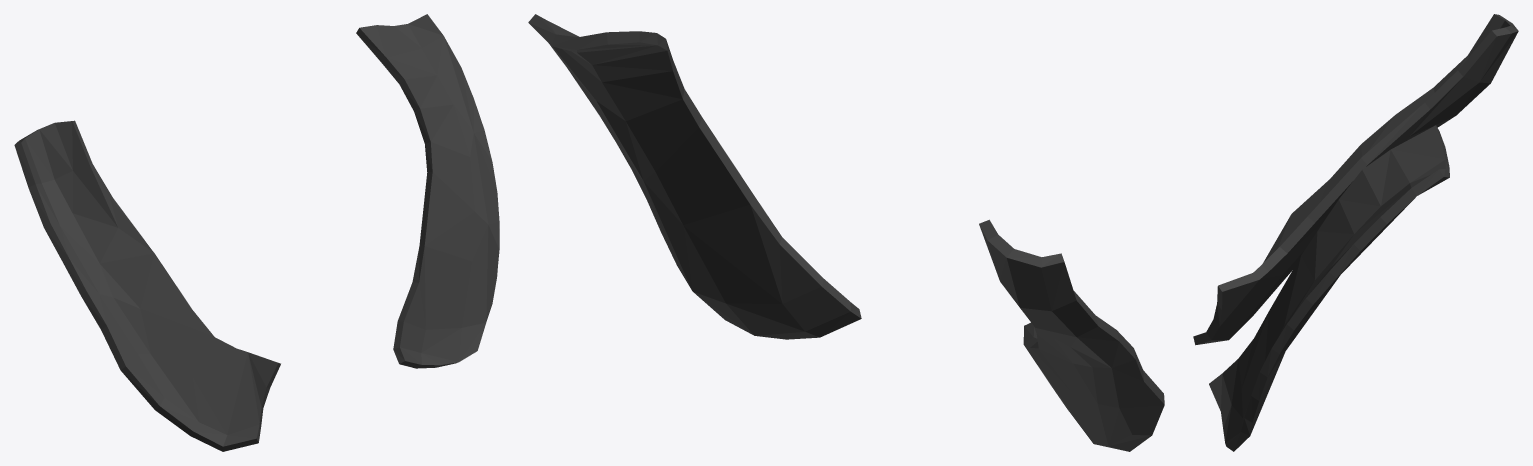
Rendered from t6_caudal_articular_process.glb.
3 renders of one model, left to right at view 1: azimuth 30°, elevation 25°; view 2: azimuth 150°, elevation 25°; view 3: azimuth 270°, elevation 25°, orthographic. The views are drawn at different scales.
Visible parts, largest first — view 1: t6_caudal_articular_process; view 2: t6_caudal_articular_process; view 3: t6_caudal_articular_process.
Boxes of the visible parts, x1,y1,x2,y2 form: t6_caudal_articular_process: [14, 14, 499, 451]; t6_caudal_articular_process: [528, 14, 1164, 451]; t6_caudal_articular_process: [1193, 14, 1518, 451].
Size of the model in its own units: 12.37 by 8.82 by 7.53.
1 material, 1 textured.
